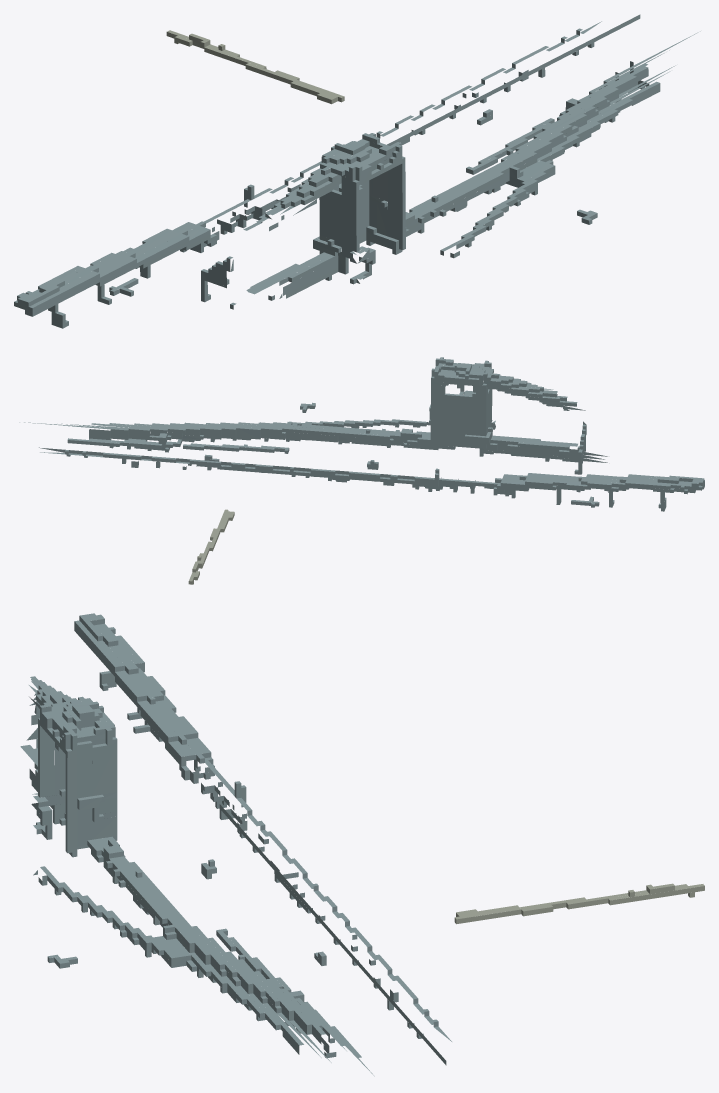
3 renders of one model, top to bottom at view 1: azimuth 30°, elevation 25°; view 2: azimuth 150°, elevation 25°; view 3: azimuth 270°, elevation 25°, orthographic. The views are drawn at different scales.
Parts seen in each view (by area): view 1: measured-industrial; view 2: measured-industrial; view 3: measured-industrial.
Boxes of the visible parts, x1,y1,x2,y2 form: measured-industrial: (14, 14, 700, 328); measured-industrial: (19, 357, 704, 584); measured-industrial: (20, 613, 704, 1076).
Bounding box in the file's own units: 196 × 27.96 × 130.
